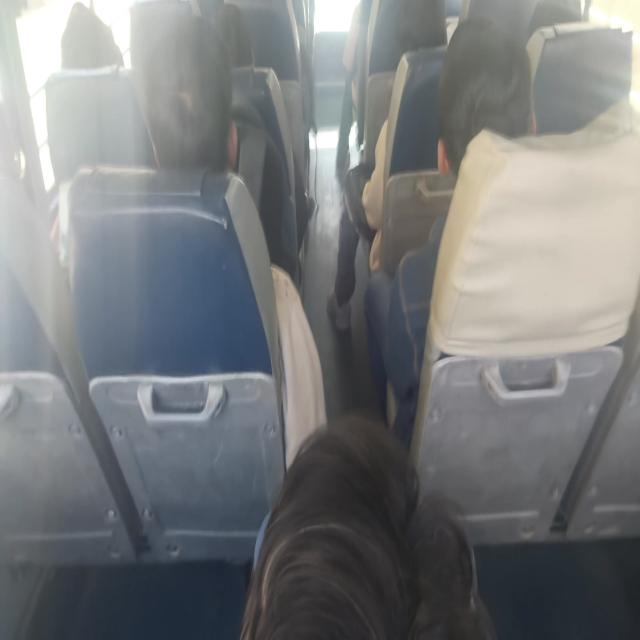person: (254, 400, 489, 640), (437, 31, 523, 168), (152, 34, 239, 164), (381, 0, 452, 91), (205, 0, 260, 89)
